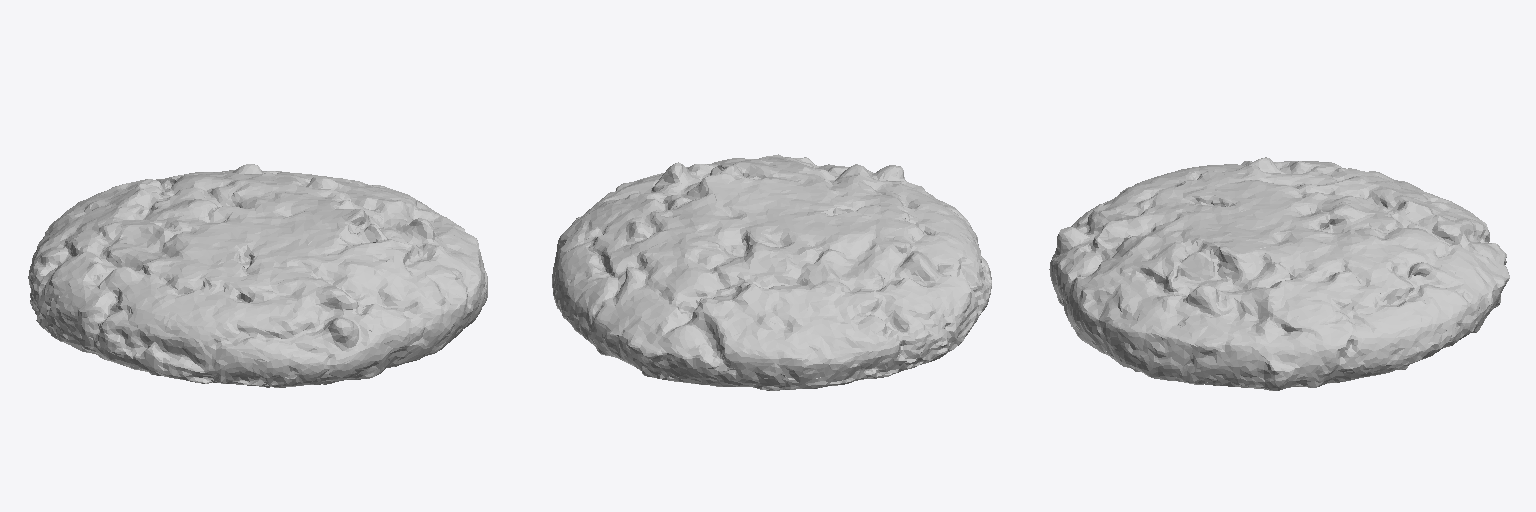
Rendered from cookie.obj.
The picture shows the model from 3 angles: view 1: azimuth 30°, elevation 25°; view 2: azimuth 150°, elevation 25°; view 3: azimuth 270°, elevation 25°; orthographic projection.
Visible parts, largest first — view 1: Mesh; view 2: Mesh; view 3: Mesh.
Part boxes in pixels (x1,y1,x2,y2): Mesh: (28,164,487,387); Mesh: (552,154,991,390); Mesh: (1049,157,1509,390).
Bounding box in the file's own units: 3.91 × 0.8299 × 3.94.